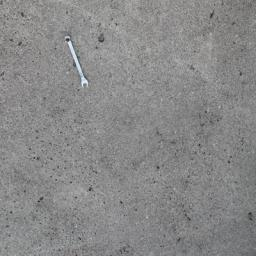FOD: (65, 34, 93, 90)
